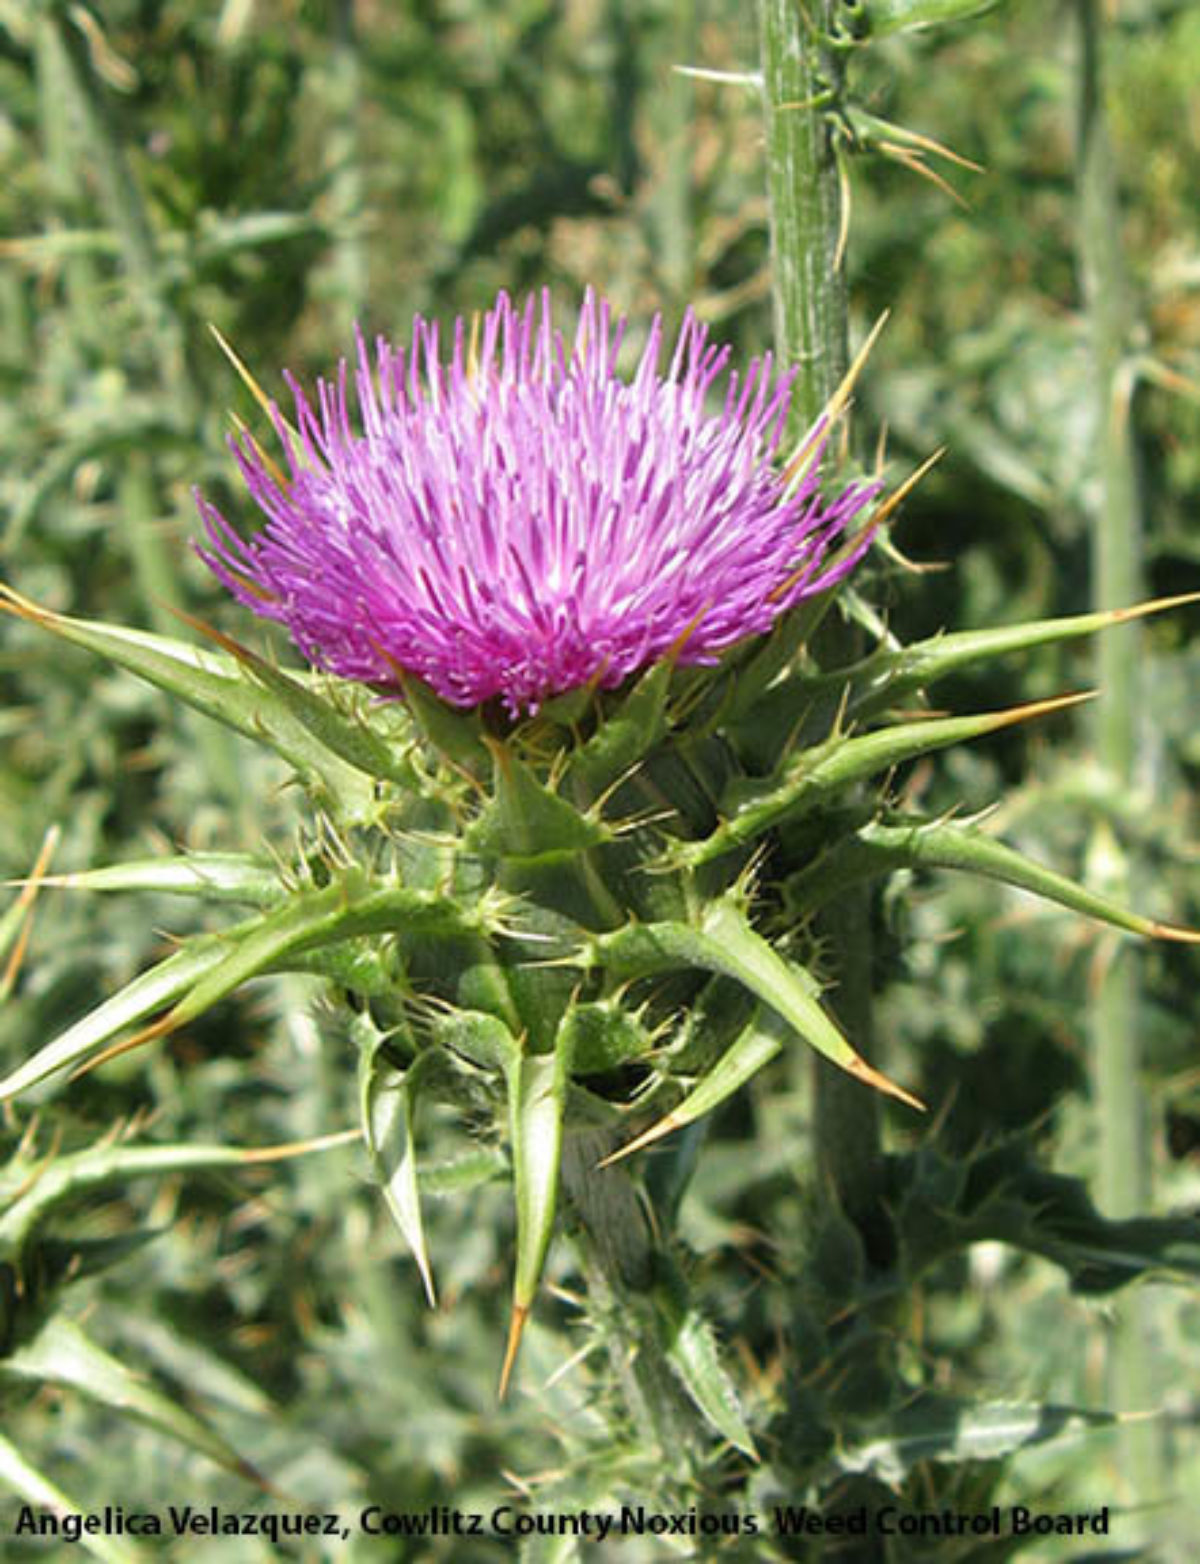thistle: (163, 294, 976, 1186)
